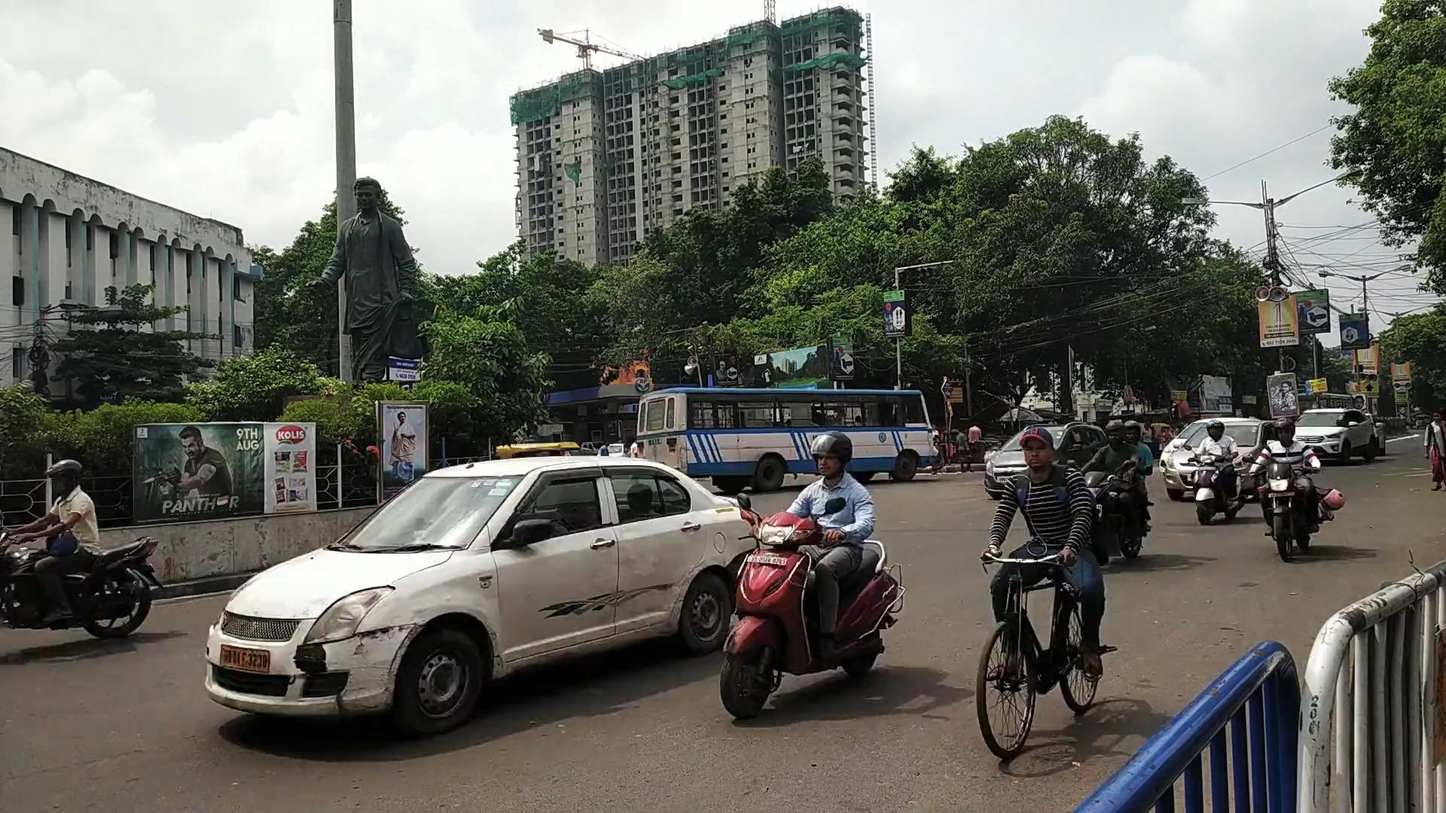bicyclist: (976, 427, 1118, 760)
driver: (721, 429, 904, 719), (1, 459, 163, 640), (1242, 417, 1345, 562), (1066, 420, 1153, 566), (1183, 419, 1248, 525)
helmet: (811, 430, 853, 481), (46, 459, 85, 498), (1273, 416, 1296, 442), (1105, 420, 1126, 445), (1123, 421, 1141, 444), (1206, 419, 1225, 439)
no-helmet: (1019, 427, 1056, 471)
